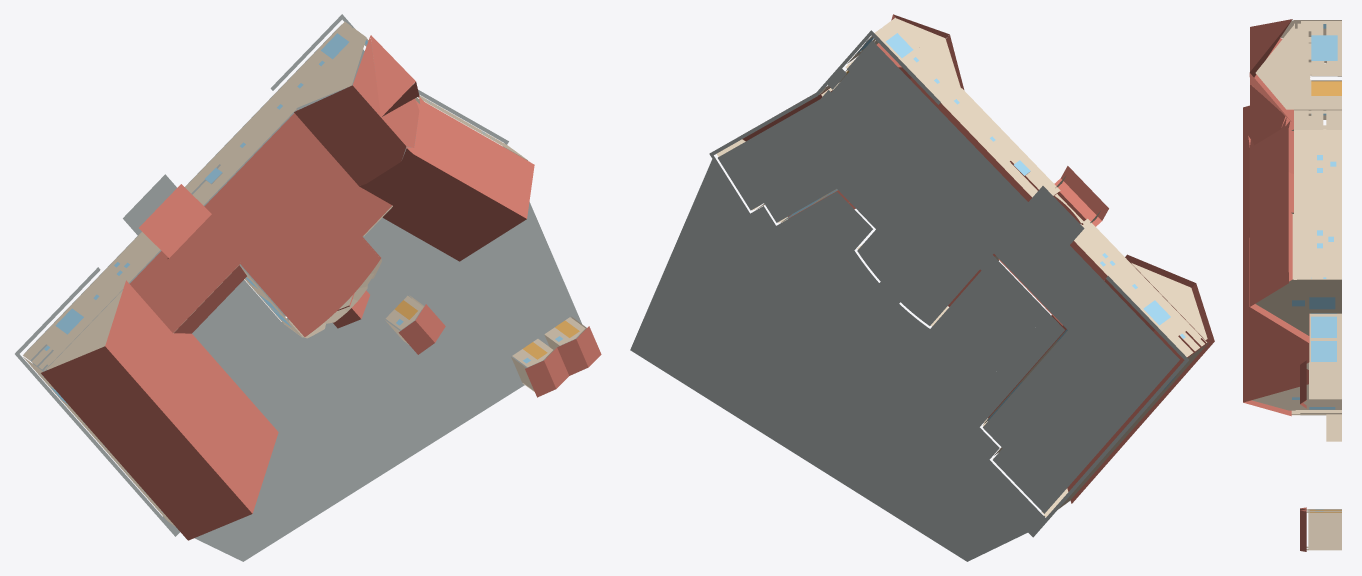
The model's file is model_cityjson.glb.
The picture shows the model from 3 angles, left to right: view 1: azimuth 30°, elevation 25°; view 2: azimuth 150°, elevation 25°; view 3: azimuth 270°, elevation 25°; orthographic projection. The views are drawn at different scales.
Parts seen in each view (by area): view 1: e126, e38, e131, e6, e11, e2, e3, e4, e132, e13, e76, e60 (+10 smaller); view 2: e122, e129, e126, e123, e125, e76, e60, e6, e63, e103, e102, e9 (+3 smaller); view 3: e81, e3, e11, e59, e68, e5, e95, e110, e118, e2, e64, e45 (+16 smaller).
Part boxes in pixels (x1=…): e126: x1=192, y1=202, x2=581, y2=561; e38: x1=130, y1=110, x2=392, y2=336; e131: x1=221, y1=367, x2=408, y2=541; e6: x1=41, y1=346, x2=252, y2=540; e11: x1=152, y1=333, x2=278, y2=513; e2: x1=359, y1=148, x2=526, y2=261; e3: x1=406, y1=96, x2=534, y2=218; e4: x1=294, y1=85, x2=406, y2=185; e132: x1=433, y1=221, x2=528, y2=303; e13: x1=105, y1=280, x2=172, y2=398; e76: x1=23, y1=232, x2=160, y2=370; e60: x1=185, y1=93, x2=296, y2=205; e122: x1=718, y1=40, x2=1179, y2=513; e129: x1=698, y1=271, x2=1040, y2=554; e126: x1=630, y1=159, x2=1040, y2=561; e123: x1=951, y1=255, x2=1188, y2=537; e125: x1=709, y1=30, x2=940, y2=255; e76: x1=1074, y1=218, x2=1206, y2=356; e60: x1=941, y1=88, x2=1060, y2=197; e6: x1=1067, y1=283, x2=1214, y2=503; e63: x1=874, y1=20, x2=959, y2=102; e103: x1=1131, y1=263, x2=1207, y2=339; e102: x1=893, y1=18, x2=960, y2=89; e9: x1=1061, y1=166, x2=1108, y2=220; e81: x1=1294, y1=129, x2=1341, y2=277; e3: x1=1249, y1=117, x2=1290, y2=306; e11: x1=1243, y1=199, x2=1309, y2=402; e59: x1=1255, y1=279, x2=1341, y2=335; e68: x1=1294, y1=23, x2=1341, y2=109; e5: x1=1250, y1=19, x2=1292, y2=145; e95: x1=1255, y1=25, x2=1293, y2=109; e110: x1=1309, y1=513, x2=1341, y2=550; e118: x1=1309, y1=362, x2=1341, y2=398; e2: x1=1248, y1=136, x2=1309, y2=343; e64: x1=1294, y1=110, x2=1341, y2=129; e45: x1=1252, y1=384, x2=1341, y2=410.
Size of the model in its own units: 49.45 by 42.95 by 7.28.
